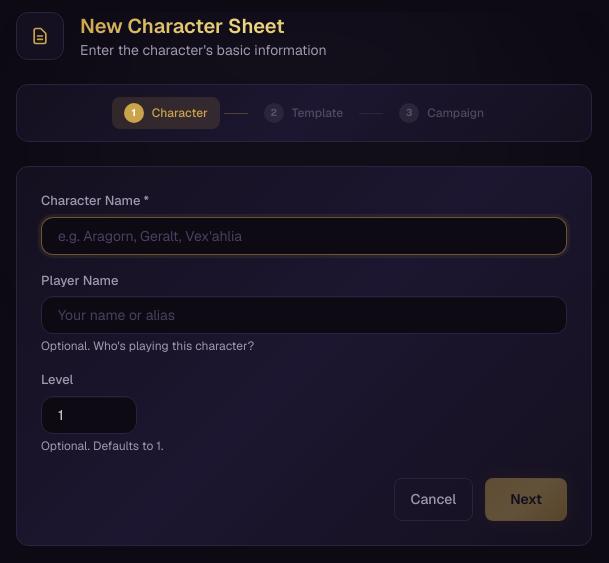
NewCharacterSheetPage › shows the no-templates empty state
The width and height of the screenshot is (609, 563).
In the field with placeholder "e.g. Aragorn, Geralt, Vex'ahlia": {"x": 304, "y": 236} [41,216,567,255], type "Aragorn"
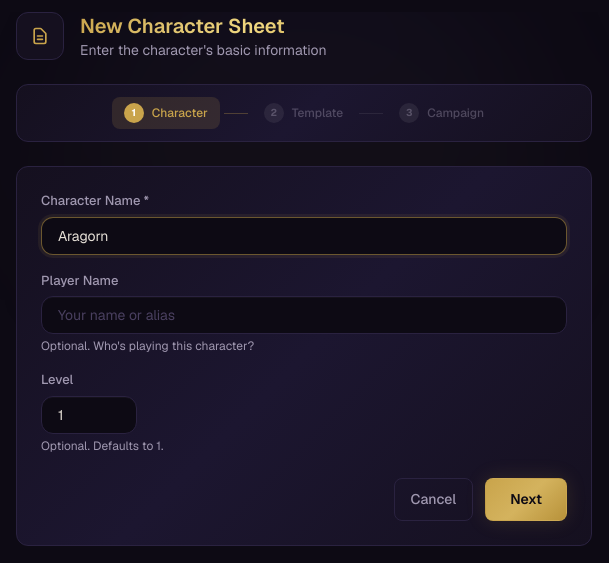
Click the button "Next": {"x": 526, "y": 499} [485,478,567,521]
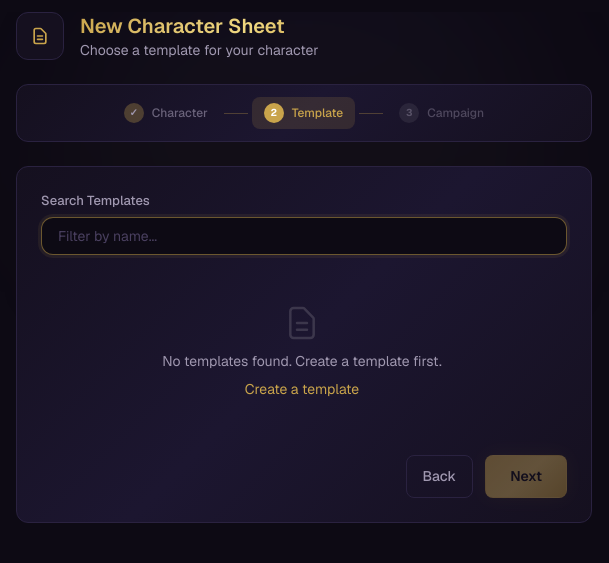
Expected: the text "No templates found. Create a template first." is shown, [162,351,442,371]
